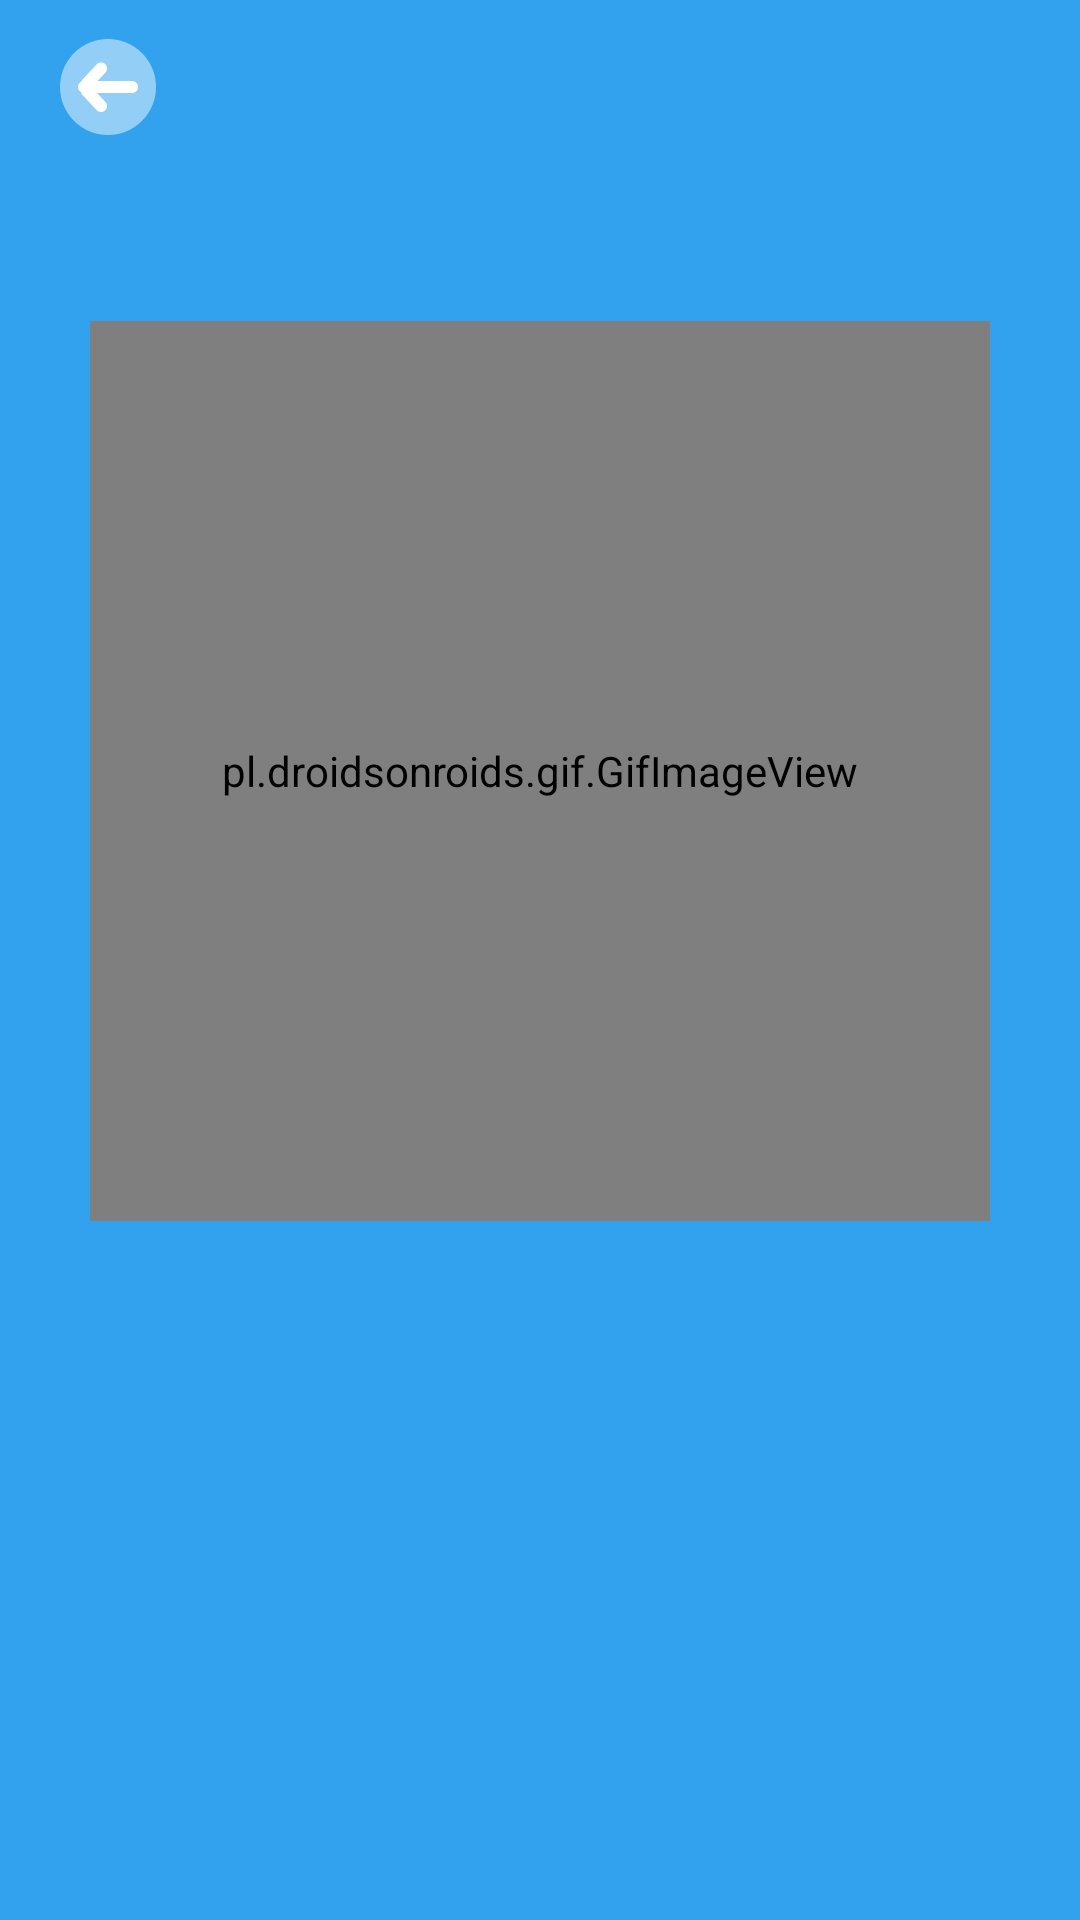

Where icons sit on this 1080 x 1920 app screen, as (x1, y1, x2, y2):
goback: (60, 39, 156, 135)
